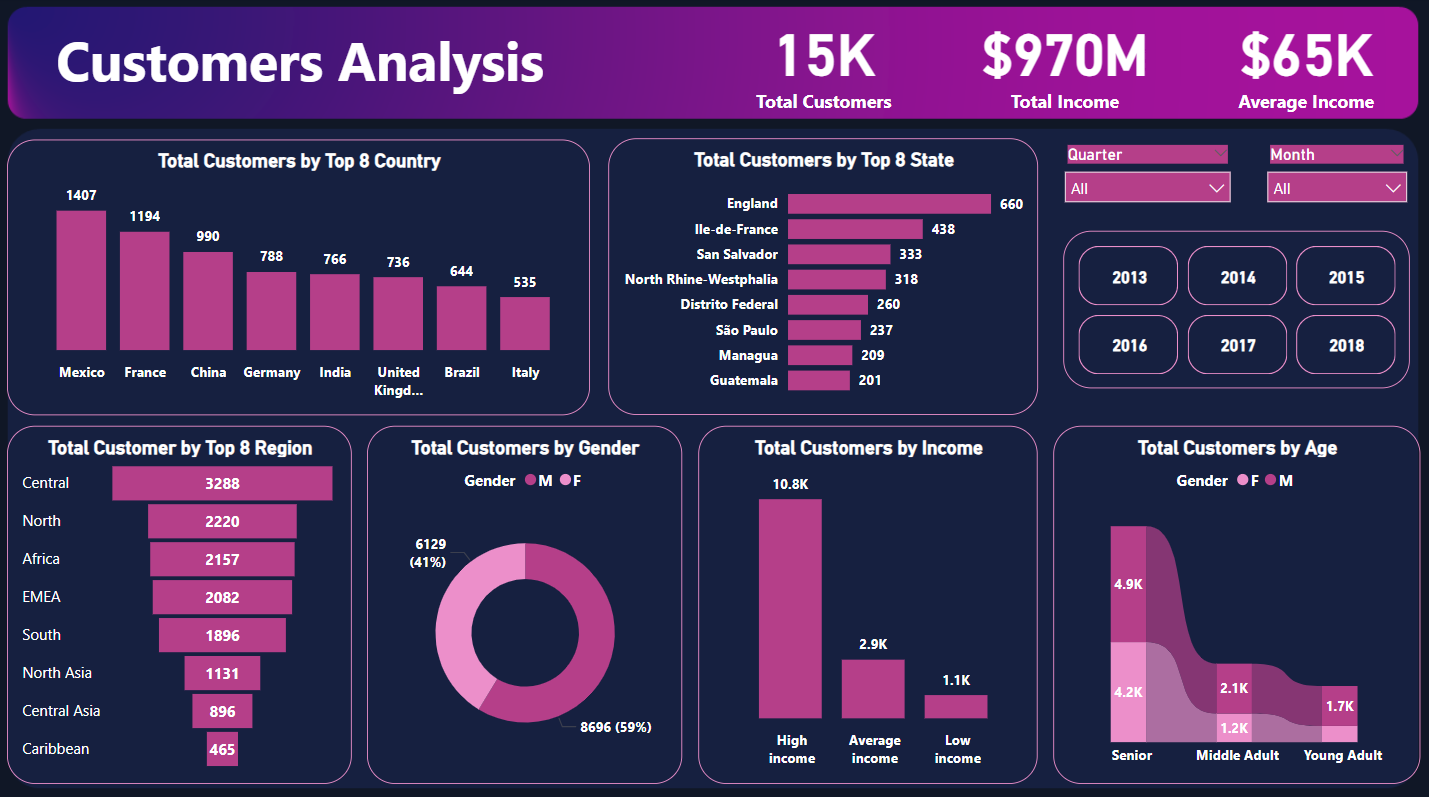

Layout of this report page (visuals, bound fields, positions):
{"tool":"powerbi","page":{"name":"Customer","canvas":[1280,720],"ordinal":0},"visuals":[{"type":"card","fields":{"Values":["All Measure.Total Customers"]},"box":[638.4,0.8,200,110.5],"z":0},{"type":"donutChart","fields":{"Category":["customer.gender"],"Y":["All Measure.Total Customers"]},"box":[331,382.6,281.4,319.8],"z":1000},{"type":"card","fields":{"Values":["All Measure.Total Income"]},"box":[854.1,0.8,200,110.5],"z":2000},{"type":"card","fields":{"Values":["All Measure.Avg Income"]},"box":[1069.8,0.8,200,110.5],"z":3000},{"type":"textbox","box":[47.7,17.4,482.6,76.7],"z":4000},{"type":"columnChart","title":"Total Customers by Top 8 Country","fields":{"Y":["All Measure.Total Customers"],"Category":["customer.Country"]},"box":[9.3,126.7,520.9,246.5],"z":5000},{"type":"funnel","title":"Total Customer by Top 8 Region","fields":{"Category":["customer.Region"],"Y":["All Measure.Total Customers"]},"box":[9.3,382.6,308.1,319.8],"z":6000},{"type":"barChart","title":"Total Customers by Top 8 State","fields":{"Category":["customer.State"],"Y":["All Measure.Total Customers"]},"box":[546.1,126.2,384.2,247],"z":7000},{"type":"advancedSlicerVisual","fields":{"Values":["customer.Date_Became_member.Variation.Date Hierarchy.Year"]},"box":[952.3,209.3,309.3,140.7],"z":8000},{"type":"slicer","fields":{"Values":["customer.Date_Became_member.Variation.Date Hierarchy.Month"]},"box":[1124.4,126.7,145.3,66.3],"z":9000},{"type":"clusteredColumnChart","fields":{"Y":["All Measure.Total Customers"],"Category":["customer.Income Class"]},"box":[626.7,382.6,303.5,319.8],"z":10000},{"type":"ribbonChart","title":"Total Customers by Age","fields":{"Category":["customer.Age Class"],"Y":["All Measure.Total Customers"],"Series":["customer.gender"]},"box":[943,382.6,327.9,319.8],"z":11000},{"type":"slicer","fields":{"Values":["customer.Date_Became_member.Variation.Date Hierarchy.Quarter"]},"box":[943,126.7,168.6,66.3],"z":12000}]}

Visuals, with their boxes in screenshot pixels (x1, y1, x2, y2), scaled from the page's 1280x720 canvas onto the 1429x797 screenshot:
card - All Measure.Total Customers: 713:1:936:123
donutChart - customer.gender x All Measure.Total Customers: 370:424:684:778
card - All Measure.Total Income: 954:1:1177:123
card - All Measure.Avg Income: 1194:1:1418:123
textbox: 53:19:592:104
"Total Customers by Top 8 Country" columnChart: 10:140:592:413
"Total Customer by Top 8 Region" funnel: 10:424:354:778
"Total Customers by Top 8 State" barChart: 610:140:1039:413
advancedSlicerVisual - customer.Date_Became_member.Variation.Date Hierarchy.Year: 1063:232:1408:387
slicer - customer.Date_Became_member.Variation.Date Hierarchy.Month: 1255:140:1418:214
clusteredColumnChart - All Measure.Total Customers x customer.Income Class: 700:424:1038:778
"Total Customers by Age" ribbonChart: 1053:424:1419:778
slicer - customer.Date_Became_member.Variation.Date Hierarchy.Quarter: 1053:140:1241:214
